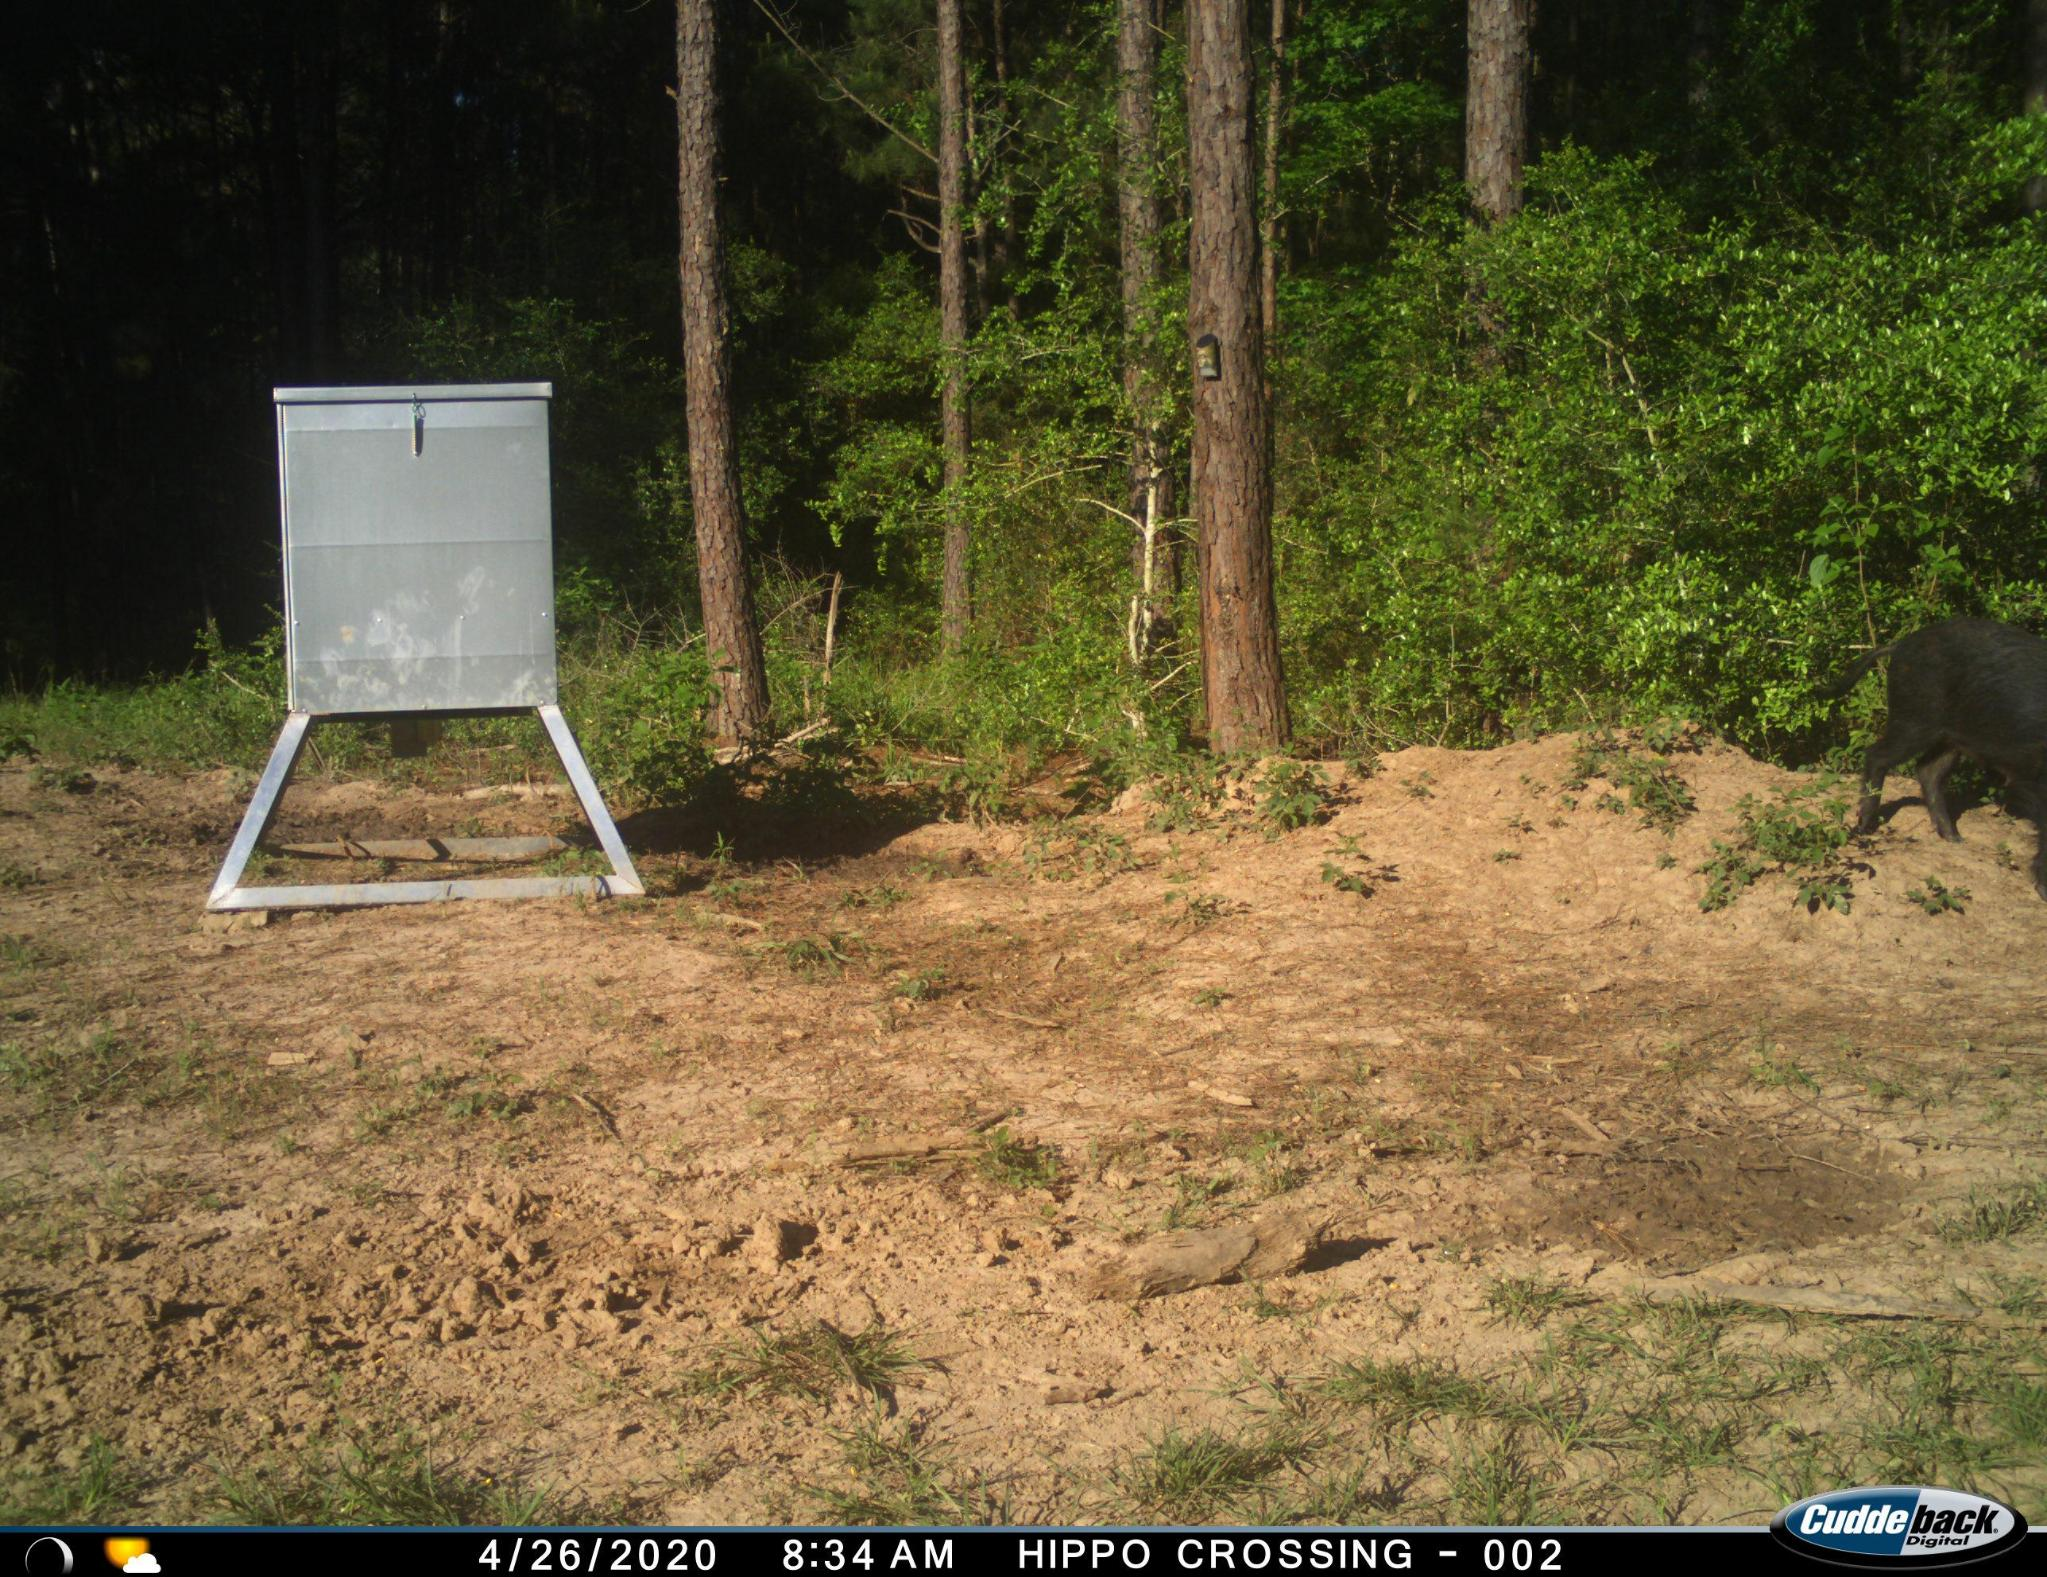Hog: (1853, 603, 2047, 883)
